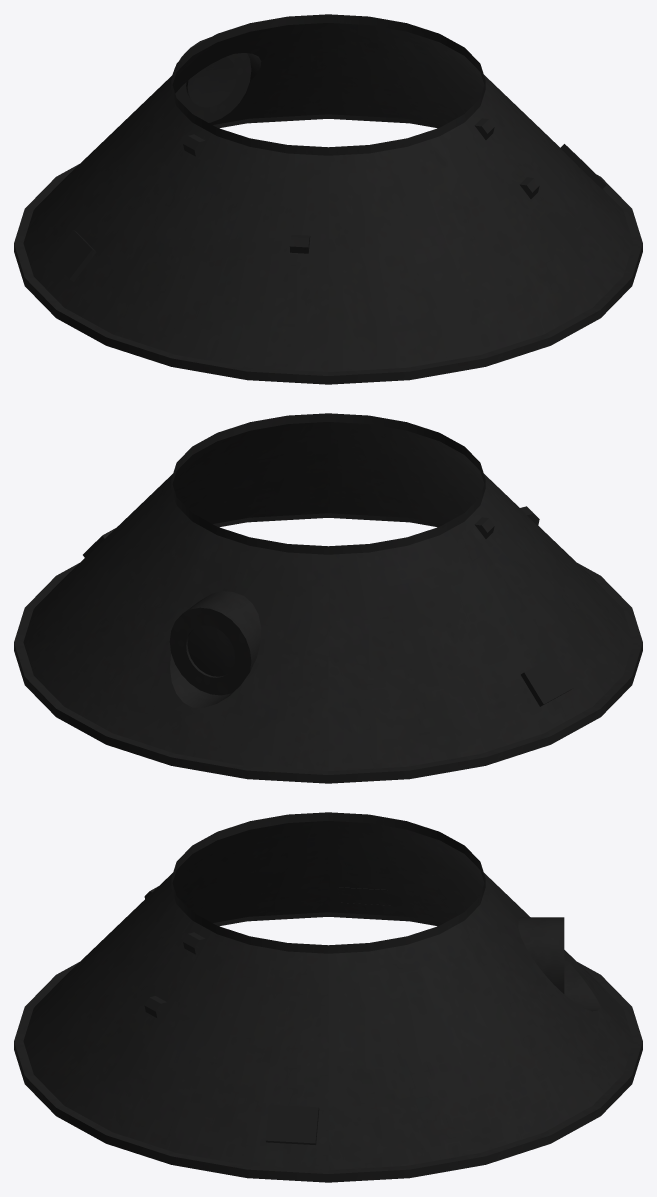
Rendered from vega_adapter_s2_s1_1.obj.
3 views of the same model, one above another, from view 1: azimuth 30°, elevation 25°; view 2: azimuth 150°, elevation 25°; view 3: azimuth 270°, elevation 25° (orthographic).
Parts seen in each view (by area): view 1: 1, w1; view 2: 1, w1; view 3: 1.
Part boxes in pixels (<box>): 1: <box>14,14,642,384</box>; w1: <box>187,57,236,107</box>; 1: <box>14,413,642,783</box>; w1: <box>187,625,234,676</box>; 1: <box>14,812,642,1182</box>.
Bounding box in the file's own units: 2.5 × 0.75 × 2.5.
